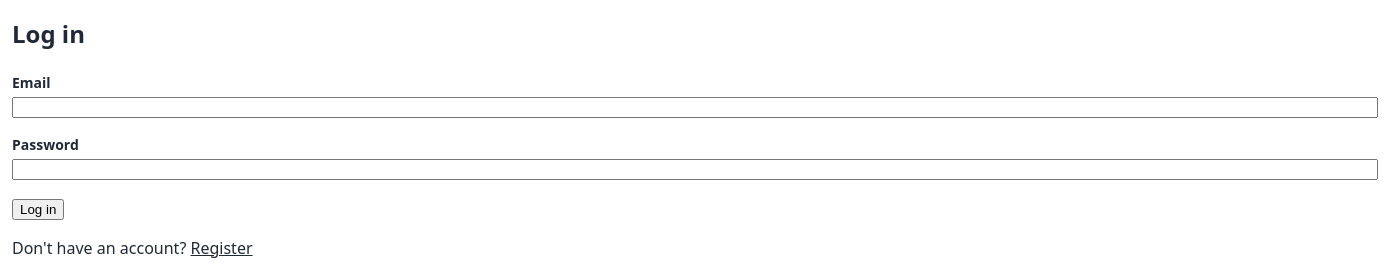
Test: AuthForms › defaults to login mode and can switch to register
The image size is (1390, 276).
Expected: the heading "Log in" is shown, [12,17,85,50]
Click the button "Register" at [222, 248], box [190,236,252,260]
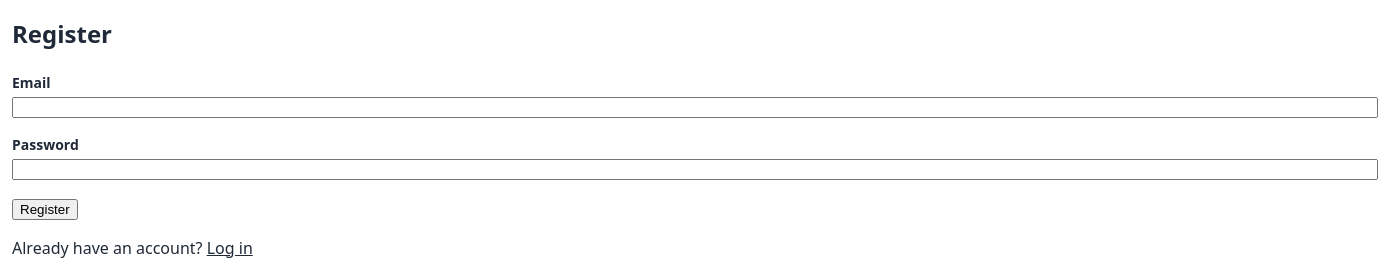
Result: the heading "Register" is shown at [12,17,112,50]
